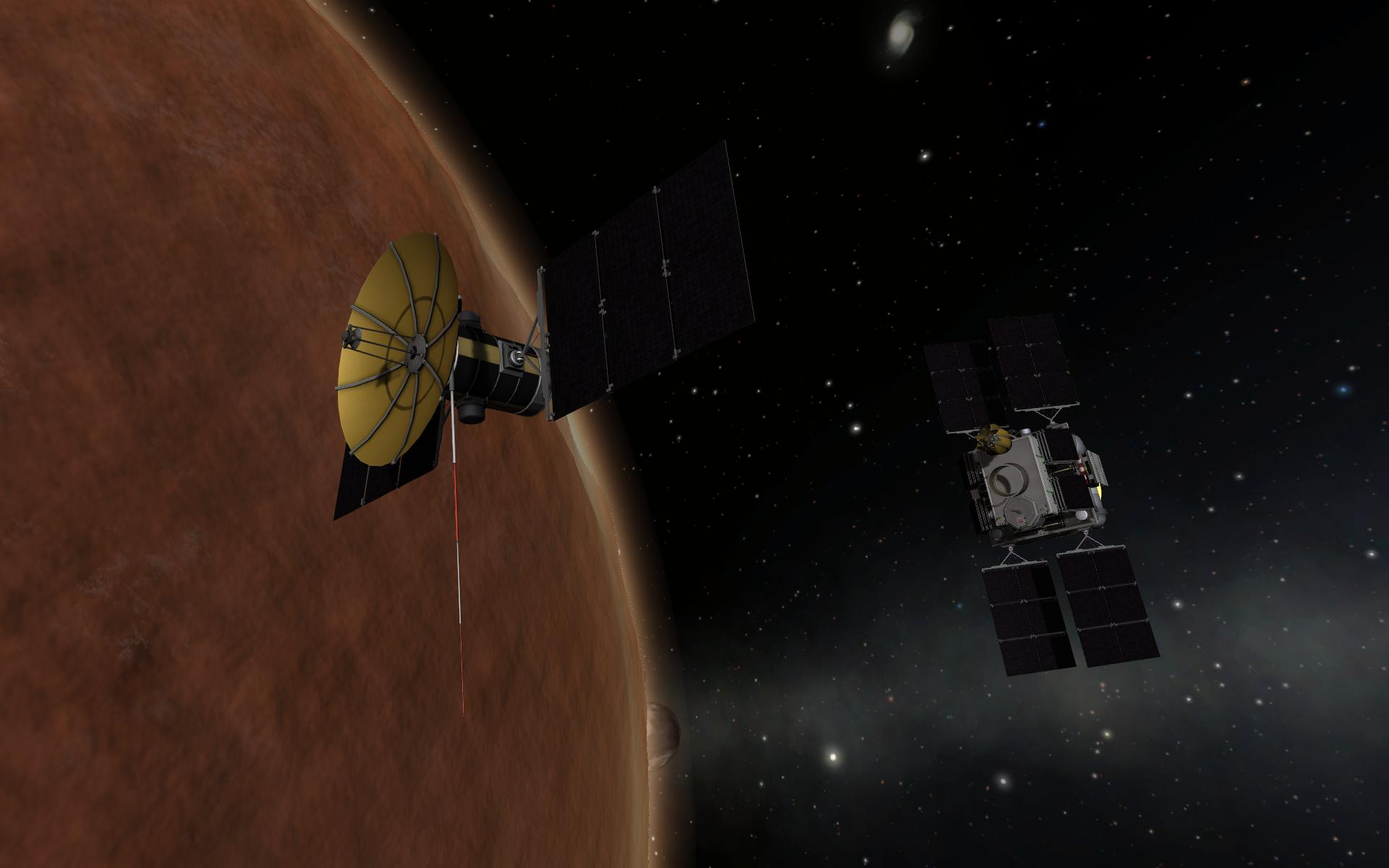antenna: (334, 225, 456, 465)
body: (953, 431, 1106, 542), (438, 313, 544, 418)
solar: (535, 132, 757, 412), (326, 394, 440, 525), (1056, 545, 1161, 673), (980, 559, 1082, 684), (1001, 312, 1082, 412), (925, 350, 989, 433)
